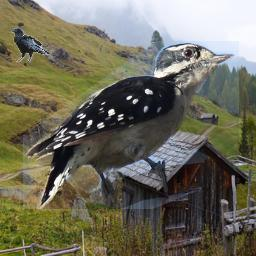Crow: (11, 28, 50, 63)
Woodpecker: (23, 41, 239, 209)
